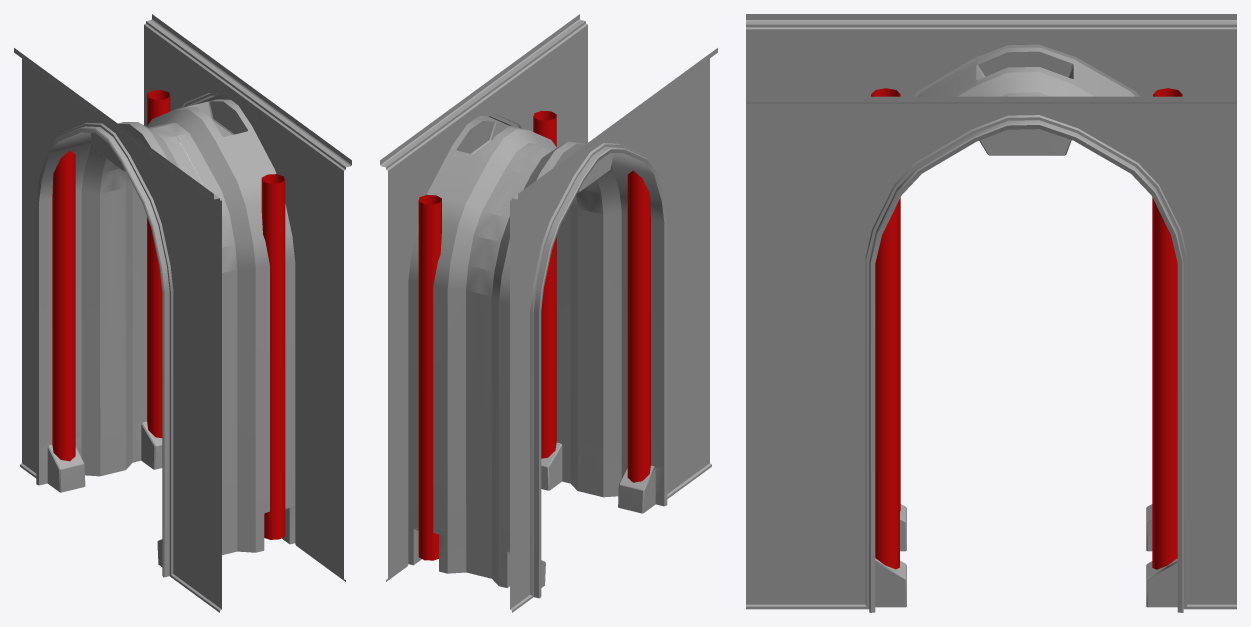
File: aqua large.fbx
The picture shows the model from 3 angles, left to right: view 1: azimuth 30°, elevation 25°; view 2: azimuth 150°, elevation 25°; view 3: azimuth 270°, elevation 25°; orthographic projection. The views are drawn at different scales.
Parts seen in each view (by area): view 1: Base_structure1, pipe_2, pipe_4, pipe_3; view 2: Base_structure1, pipe_1, pipe_3, pipe_4; view 3: Base_structure1, pipe_3, pipe_4.
Part boxes in pixels (x1,y1,x2,y2): Base_structure1: (14, 14, 351, 612); pipe_2: (52, 150, 75, 461); pipe_4: (261, 174, 285, 539); pipe_3: (147, 90, 170, 438); Base_structure1: (380, 14, 717, 612); pipe_1: (627, 170, 650, 482); pipe_3: (418, 195, 441, 560); pipe_4: (533, 110, 556, 458); Base_structure1: (746, 14, 1236, 612); pipe_3: (1152, 197, 1177, 569); pipe_4: (875, 199, 899, 569).
Bounding box in the file's own units: 2.79 × 8.12 × 7.
